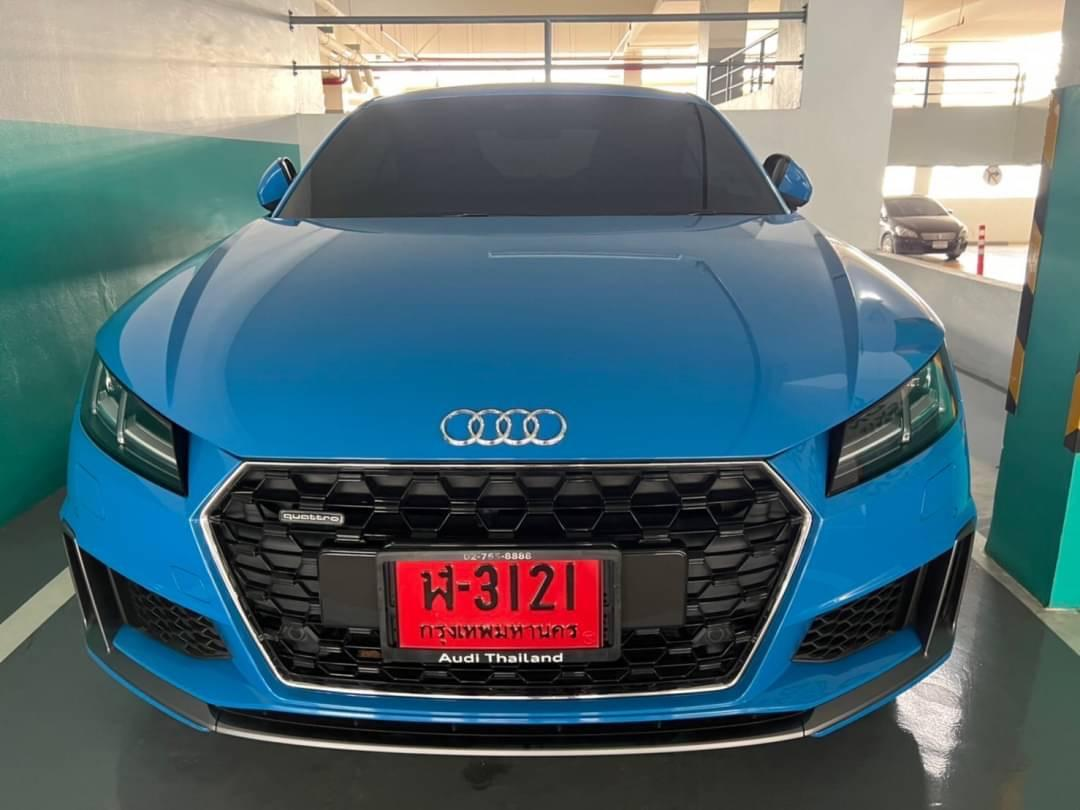license-plate: (370, 545, 625, 662)
